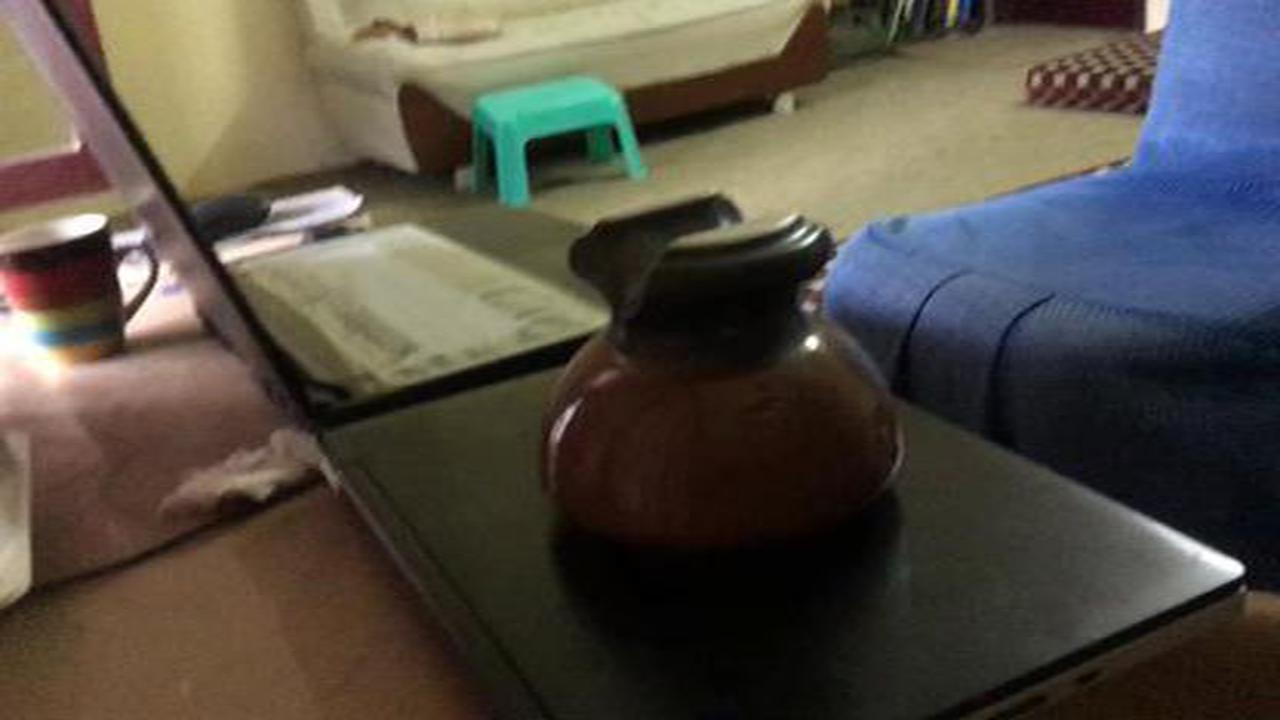insulator_pin: (527, 187, 921, 573)
